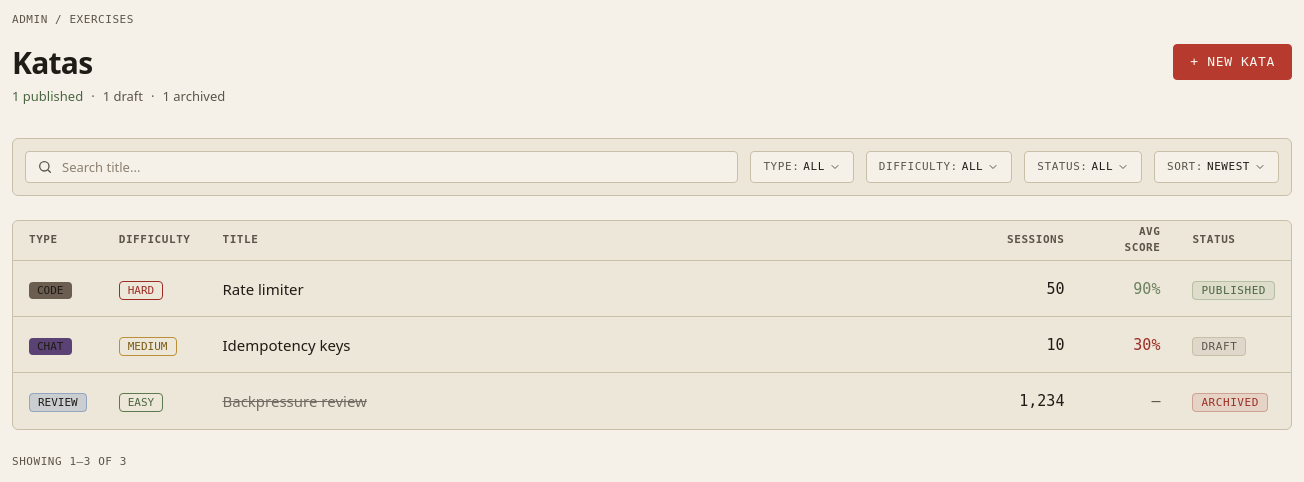
Test case: AdminKatasPage › filters by type via the Type select
The image size is (1304, 482).
Expected: the link "Rate limiter" is shown, [222,278,304,298]
Select "REVIEW" in the dropdown labelled "Type" at (802, 166), box [750,150,854,182]
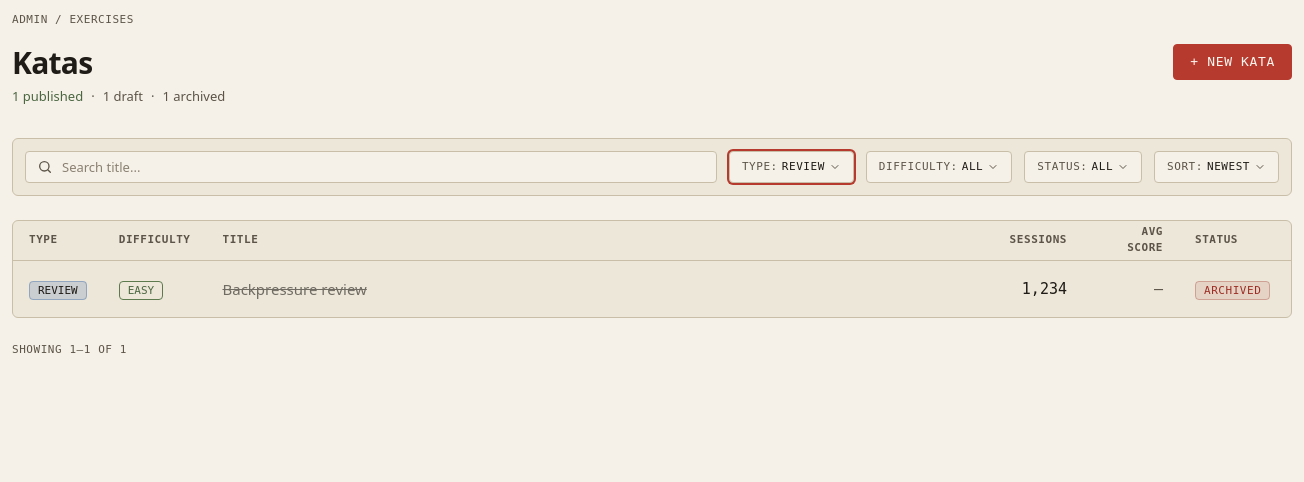
Expected: the link "Backpressure review" is shown, [222,279,367,299]
Now the link "Rate limiter" is gone
